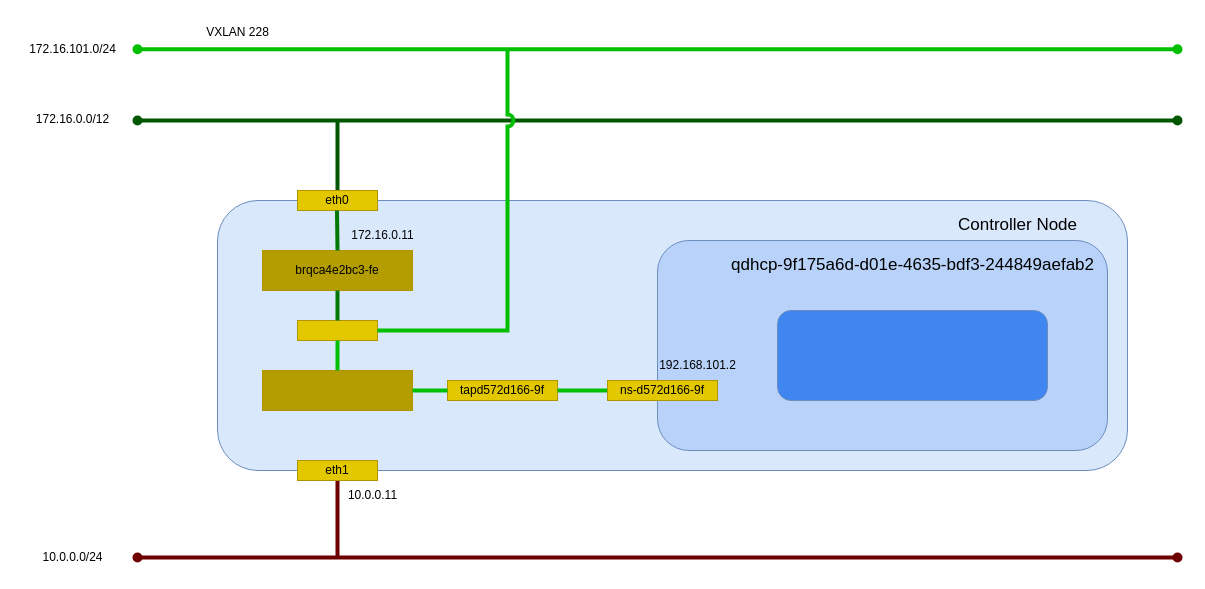
Image size: 1205x589. Some labels were removed from this diagram. The box of each missing label's shape, as (x1, y1, x2, y2) in pixels:
brq9f175a6d-d0: (262, 370, 412, 410)
DHCP agent: (776, 310, 1048, 400)
vxlan-288: (296, 320, 378, 340)
